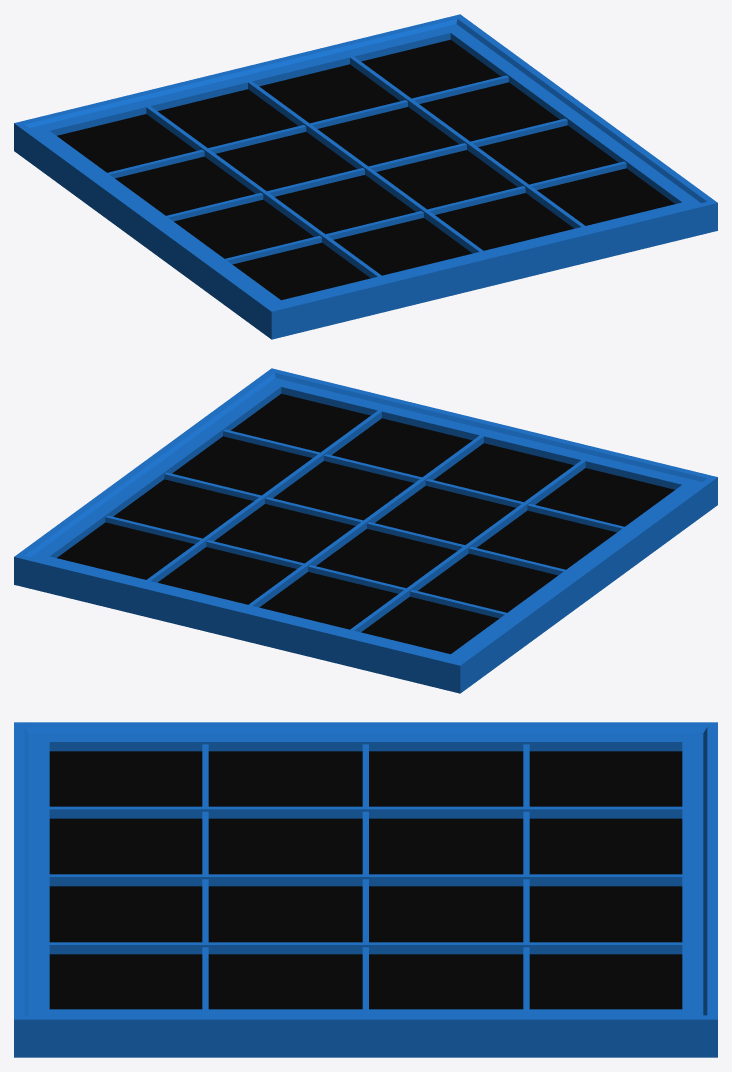
The model's file is SM_skylight.fbx.
3 views of the same model, one above another, from view 1: azimuth 30°, elevation 25°; view 2: azimuth 150°, elevation 25°; view 3: azimuth 270°, elevation 25° (orthographic). The views are drawn at different scales.
Parts seen in each view (by area): view 1: skylight; view 2: skylight; view 3: skylight.
Part boxes in pixels (x1,y1,x2,y2): skylight: [14, 14, 717, 339]; skylight: [14, 368, 717, 693]; skylight: [14, 722, 717, 1057].
Size of the model in its own units: 200 by 11.95 by 200.
